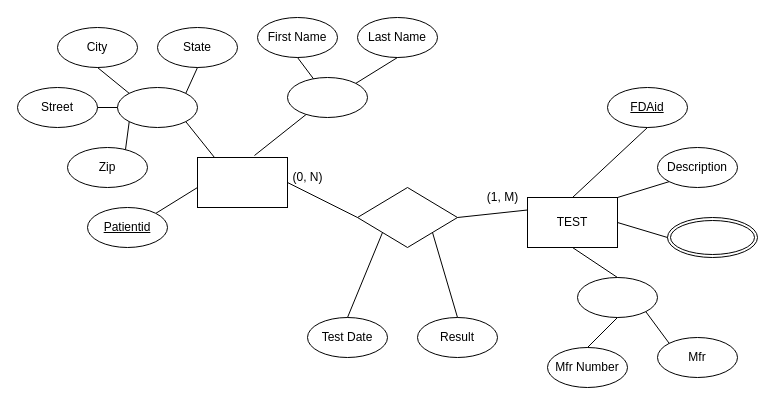
Some shapes in this 775 by 405 pixel diagram are drawn without their labels. Each missing label, with the centre of its shape:
( Address ): the point at 157,107
( Mfrid ): the point at 617,297
( Name ): the point at 327,97
Ingredients: the point at 712,237
PATIENT: the point at 242,182
TAKES_COVID: the point at 407,217
